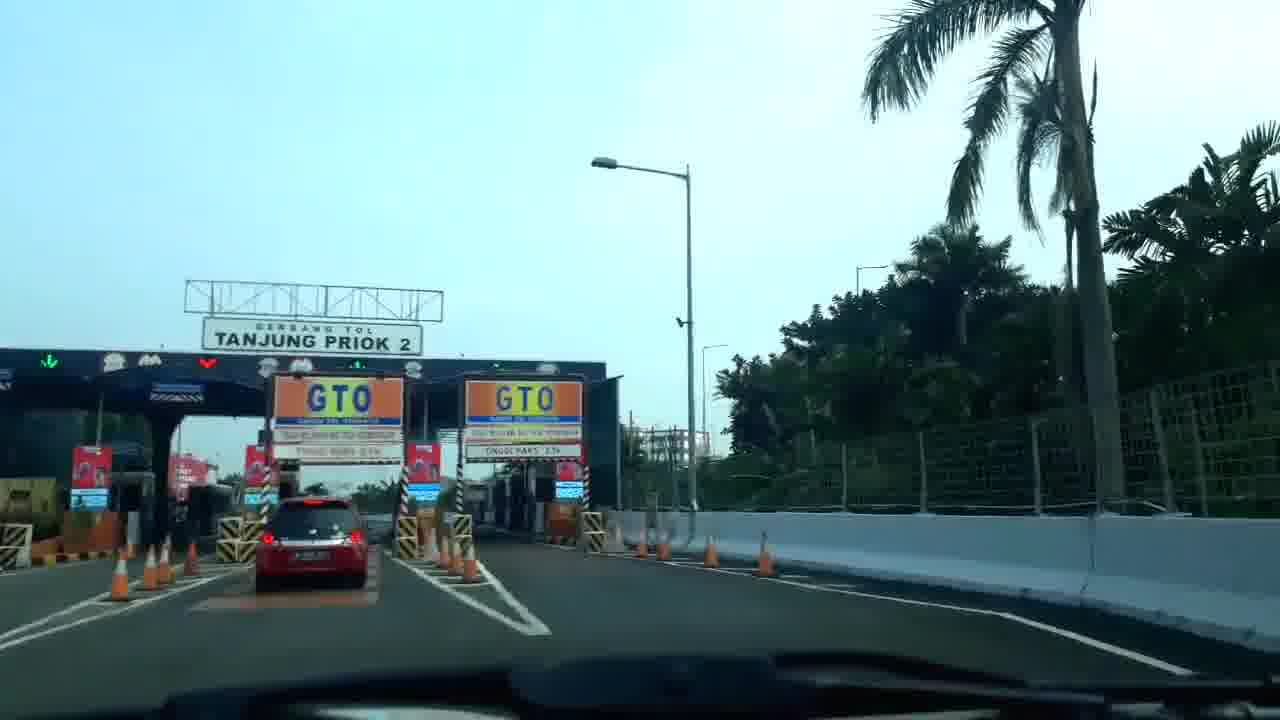plate_positive: (295, 551, 331, 561)
